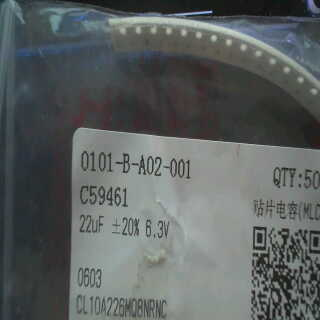22uF: (76, 210, 104, 240)
